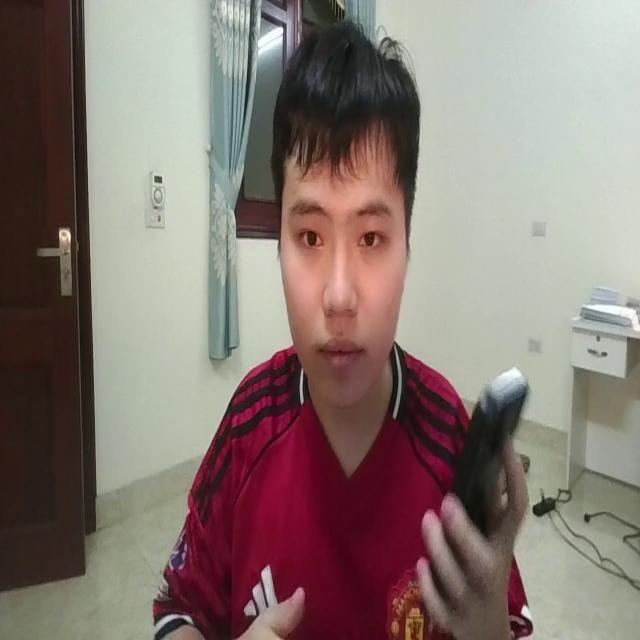phone: (428, 358, 528, 611)
student: (149, 17, 533, 640)
